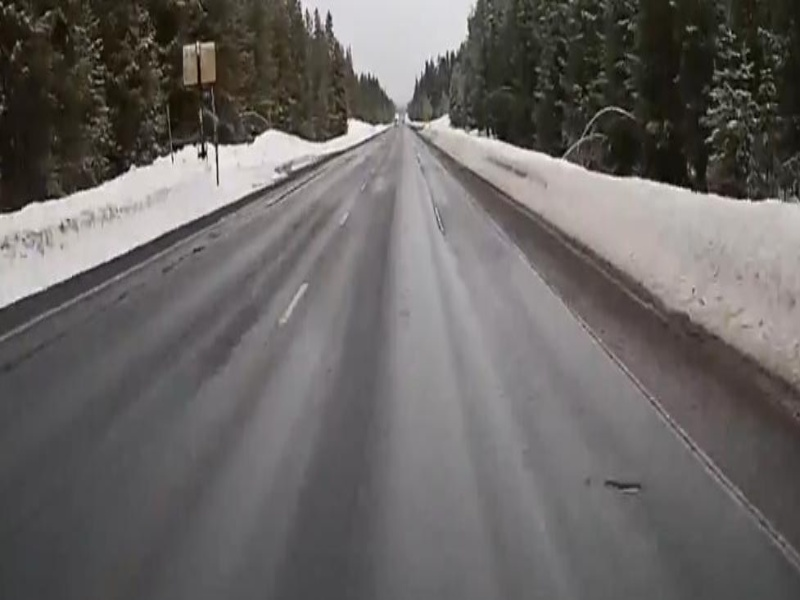pothole: (599, 477, 643, 498)
